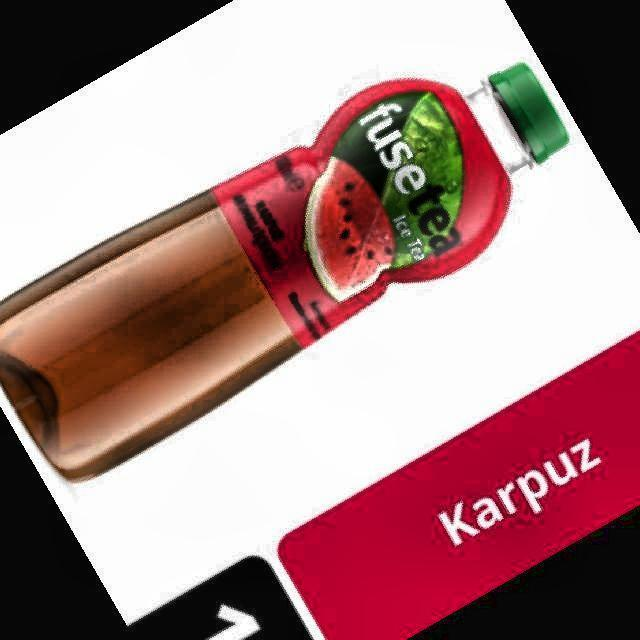plastic: (0, 62, 569, 478)
